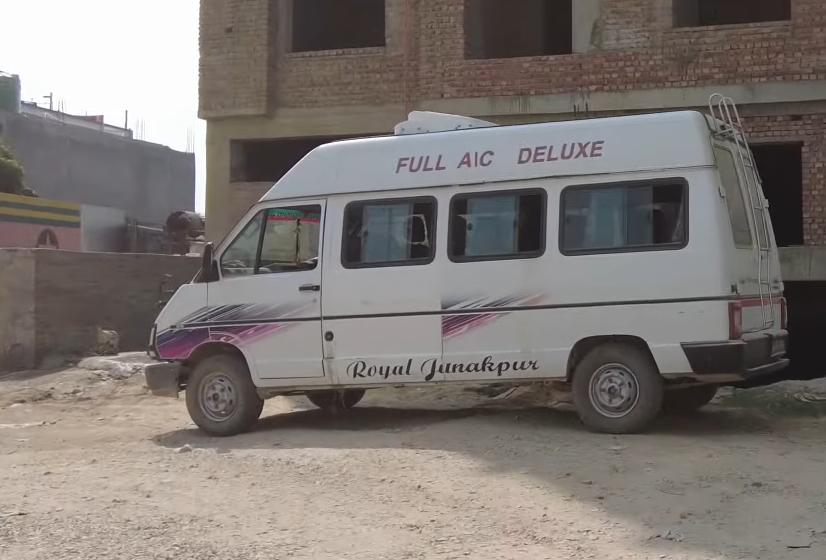micro_bus: (142, 103, 785, 453)
